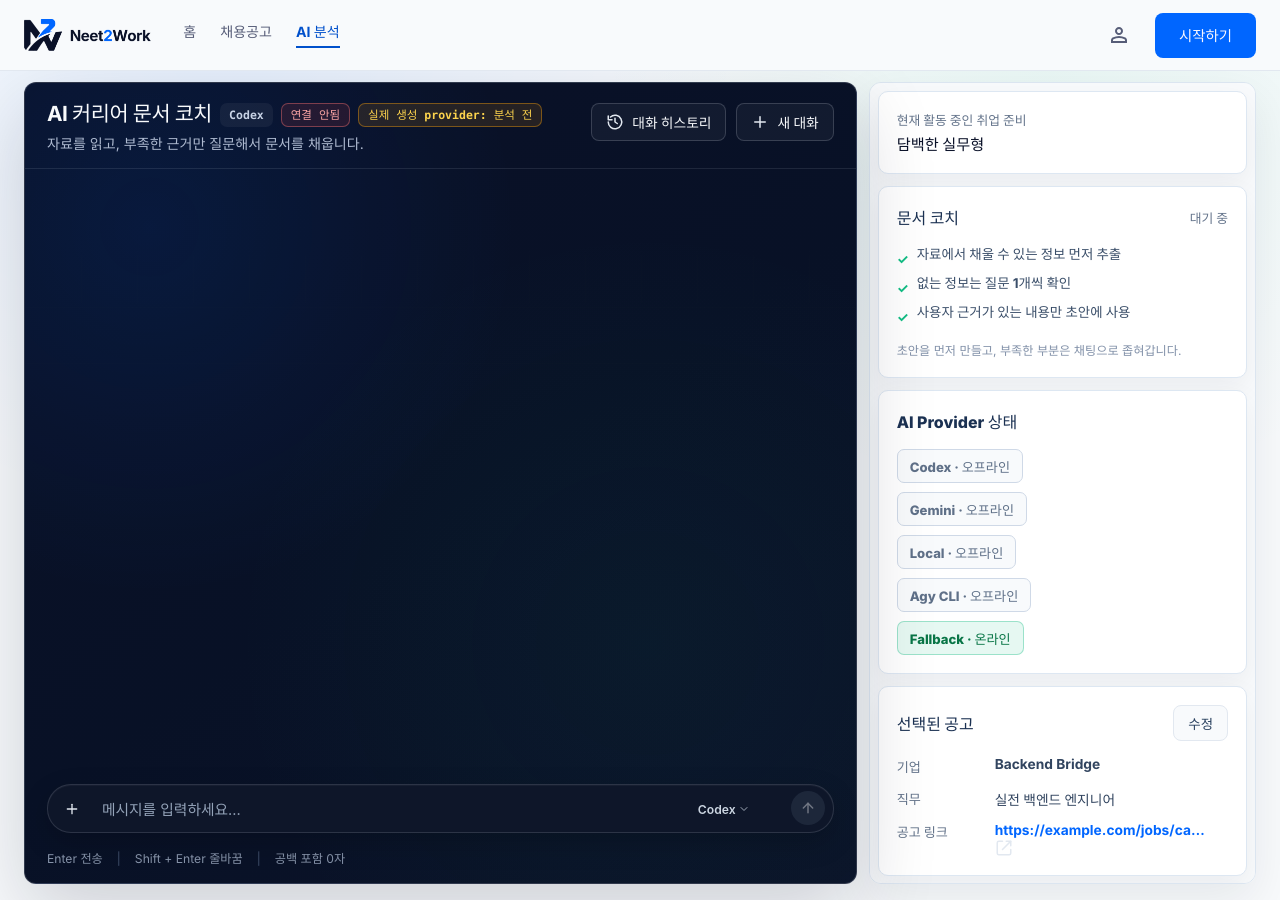
Scenario: AIDraftChatBuilder job context › calculates ATS fit from selected job keywords and chat input
The image size is (1280, 900).
Expected: the text "실전 백엔드 엔지니어" is shown, left=995, top=794, right=1115, bottom=810
Type "Node.js와 PostgreSQL로 REST API 서버를 구축하고 운영했습니다. 장애 원인을 분석해 배포 자동화를 개선했고 API 응답 시간을 30% 줄였습니다." into the text box with placeholder "메시지를 입력하세요..." at (377, 810), box left=98, top=794, right=657, bottom=826
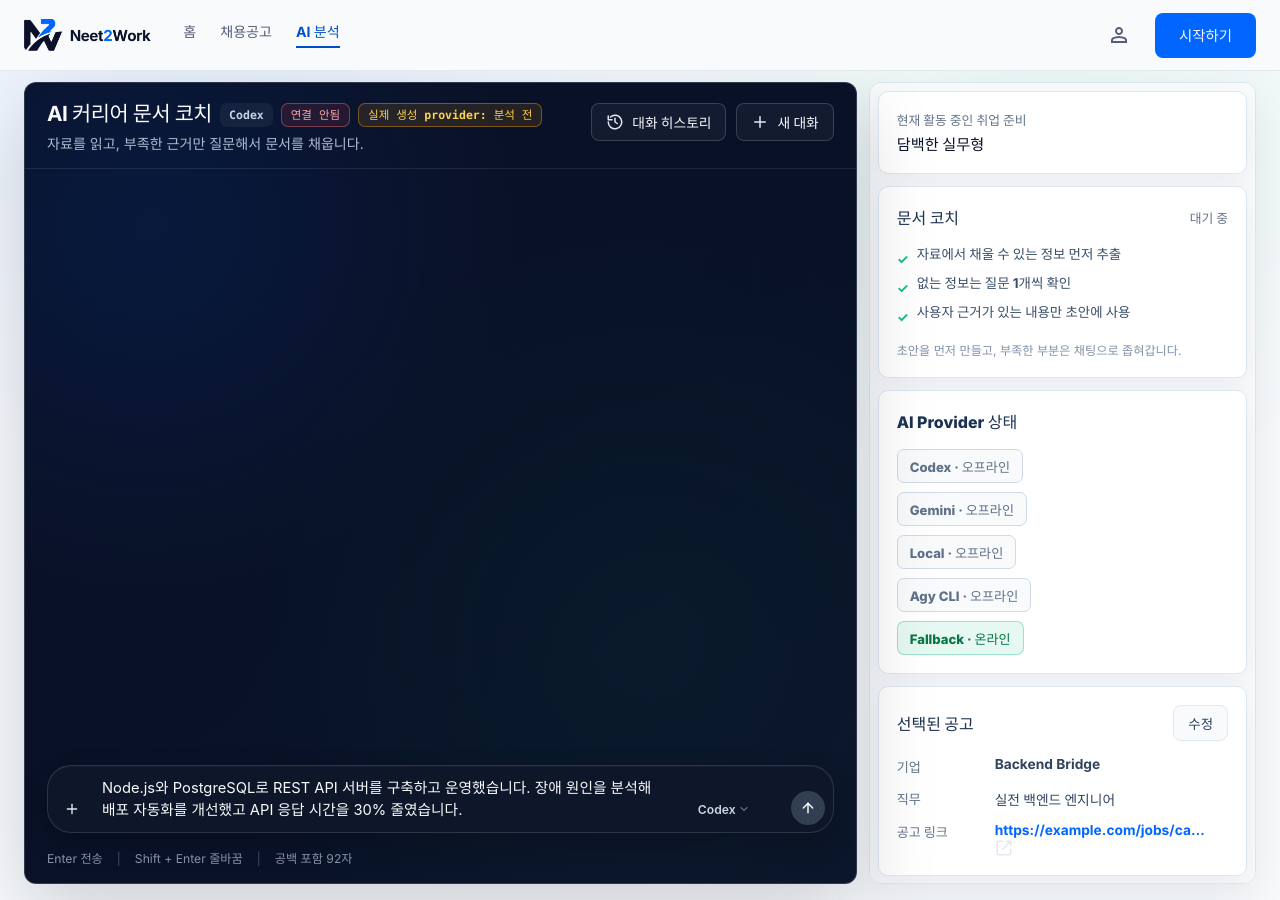
Press Enter in the text box with placeholder "메시지를 입력하세요...", box left=98, top=772, right=657, bottom=826
(page scrolled)
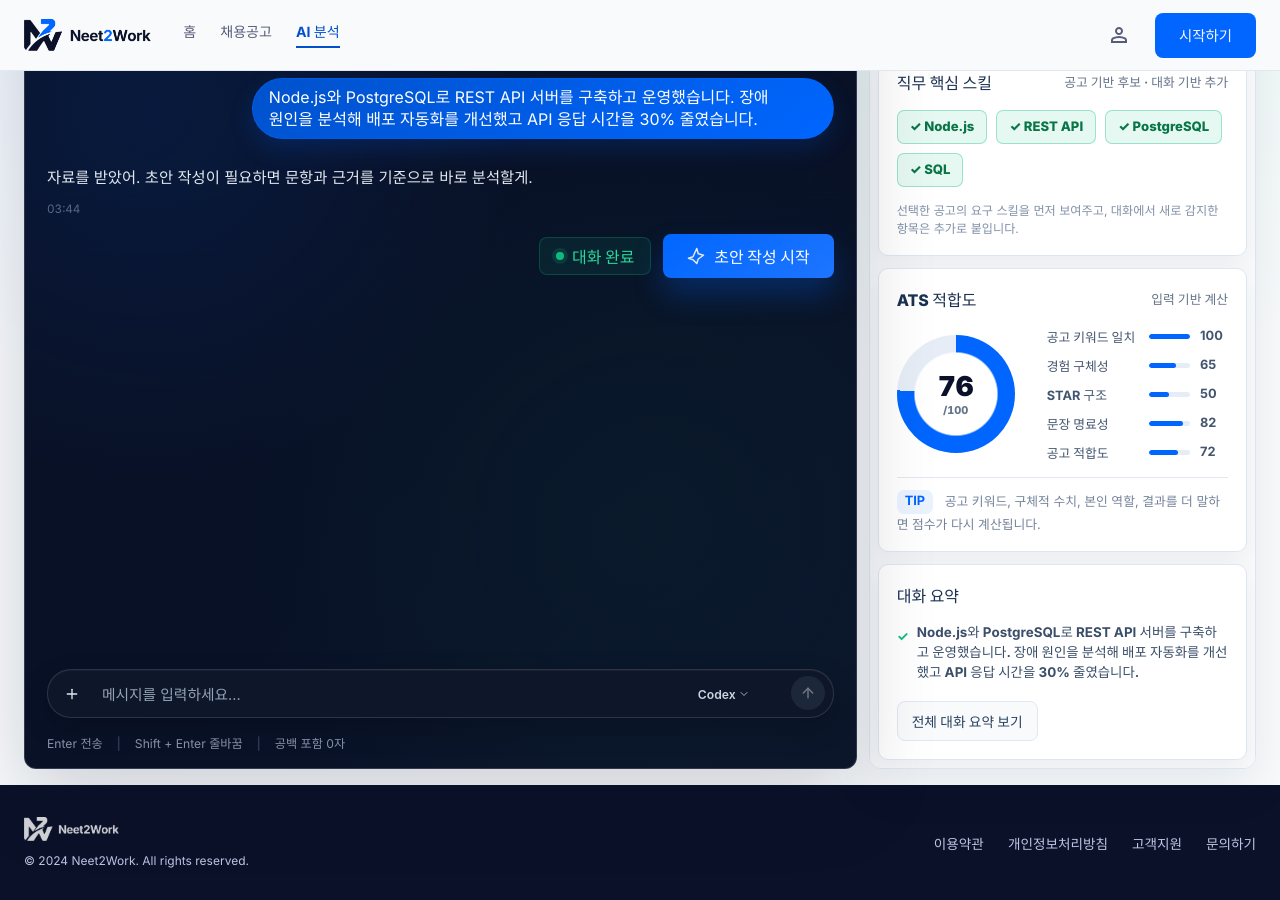
Result: the text "자료를 받았어. 초안 작성이 필요하면 문항과 근거를 기준으로 바로 분석할게." is shown at left=47, top=165, right=533, bottom=192
Result: the text "입력 기반 계산" is shown at left=1151, top=289, right=1228, bottom=308
Result: the text "대기" is gone
